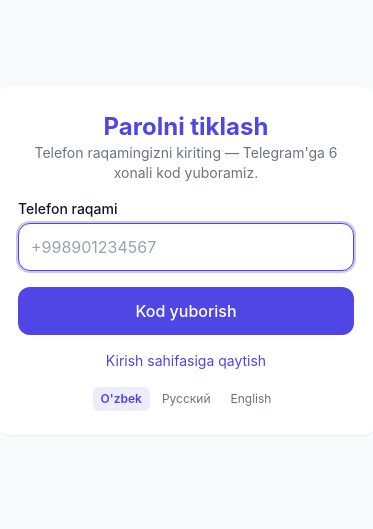
Test: ResetPasswordPage › noto‘g‘ri formatdagi kod va qisqa parol yuborilmaydi
Type "901112233" into the field labelled "Telefon raqami" at x=186, y=247, box [18,223,354,271]
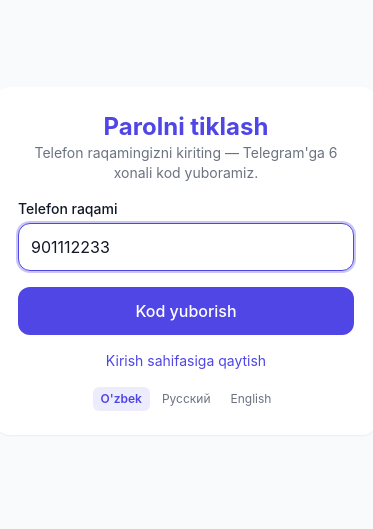
Click the button "Kod yuborish" at x=186, y=311, box [18,287,354,335]
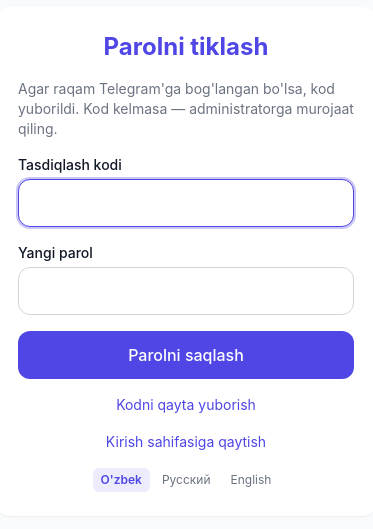
Expected: the field labelled "Tasdiqlash kodi" is shown
Type "12" into the field labelled "Tasdiqlash kodi" at x=186, y=202, box [18,178,354,226]
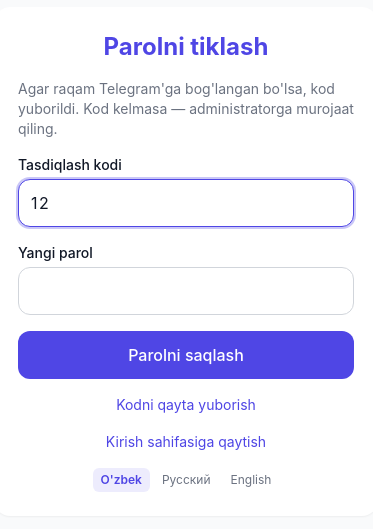
Type "abc" into the password field labelled "Yangi parol" at x=186, y=290, box [18,266,354,314]
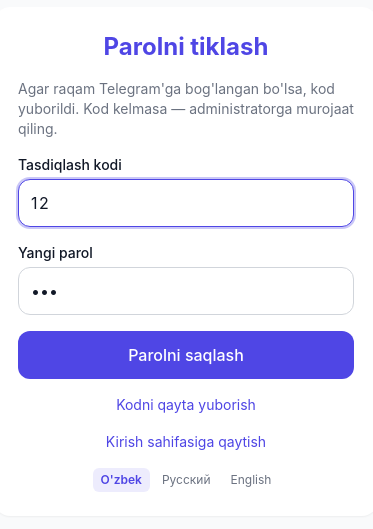
Click the button "Parolni saqlash" at x=186, y=354, box [18,330,354,378]
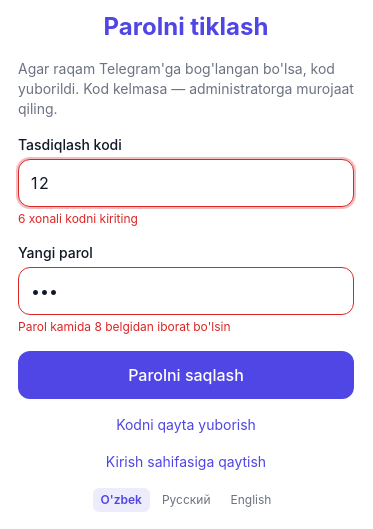
Expected: the text "6 xonali kodni kiriting" is shown, [18,210,138,226]
Expected: the text "Parol kamida 8 belgidan iborat bo'lsin" is shown, [18,318,230,334]
